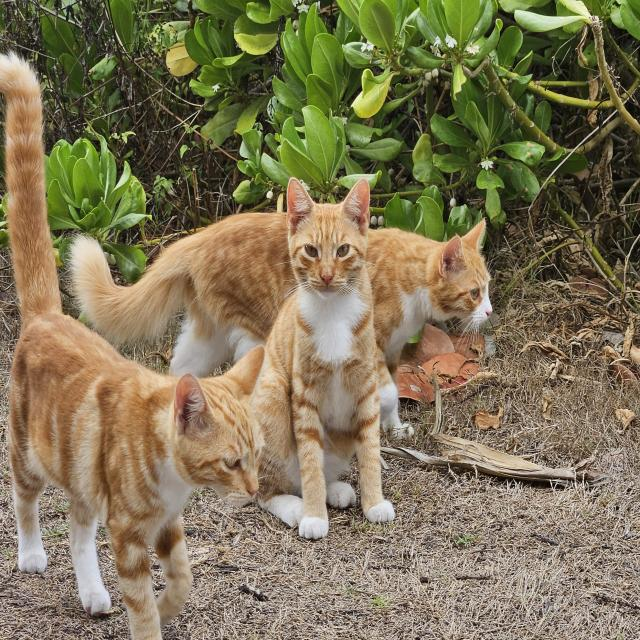cat: (0, 55, 264, 638), (255, 178, 394, 538), (71, 212, 295, 377), (366, 222, 492, 438)
